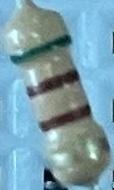Brown: (26, 69, 81, 100), (37, 104, 93, 133)
Green: (10, 34, 72, 66)
Side-Silver: (47, 134, 110, 173)
